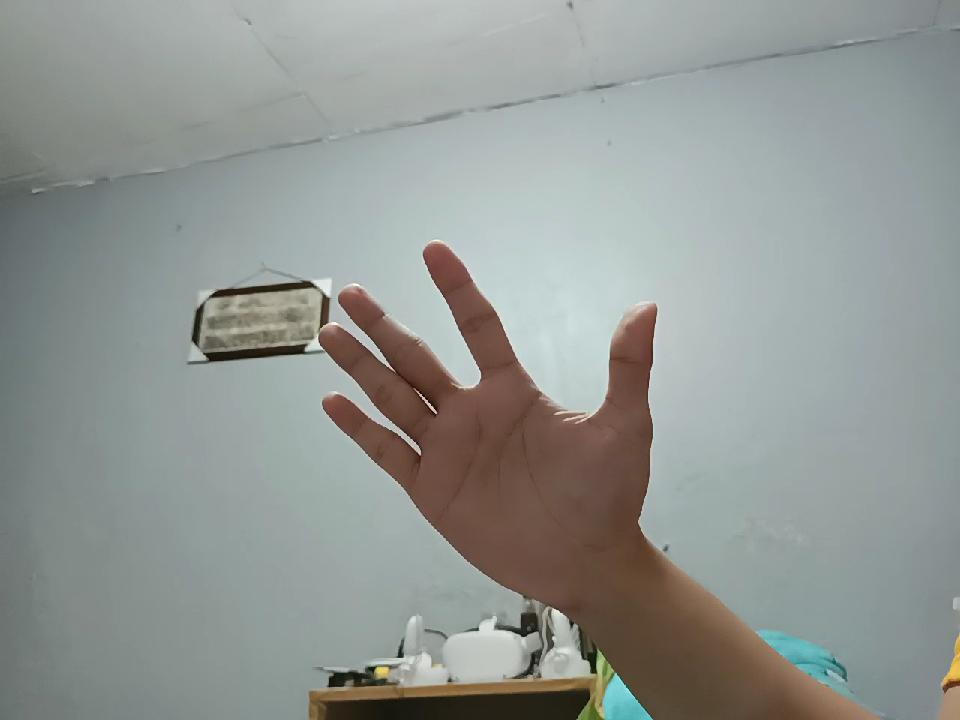paper: (322, 230, 668, 608)
